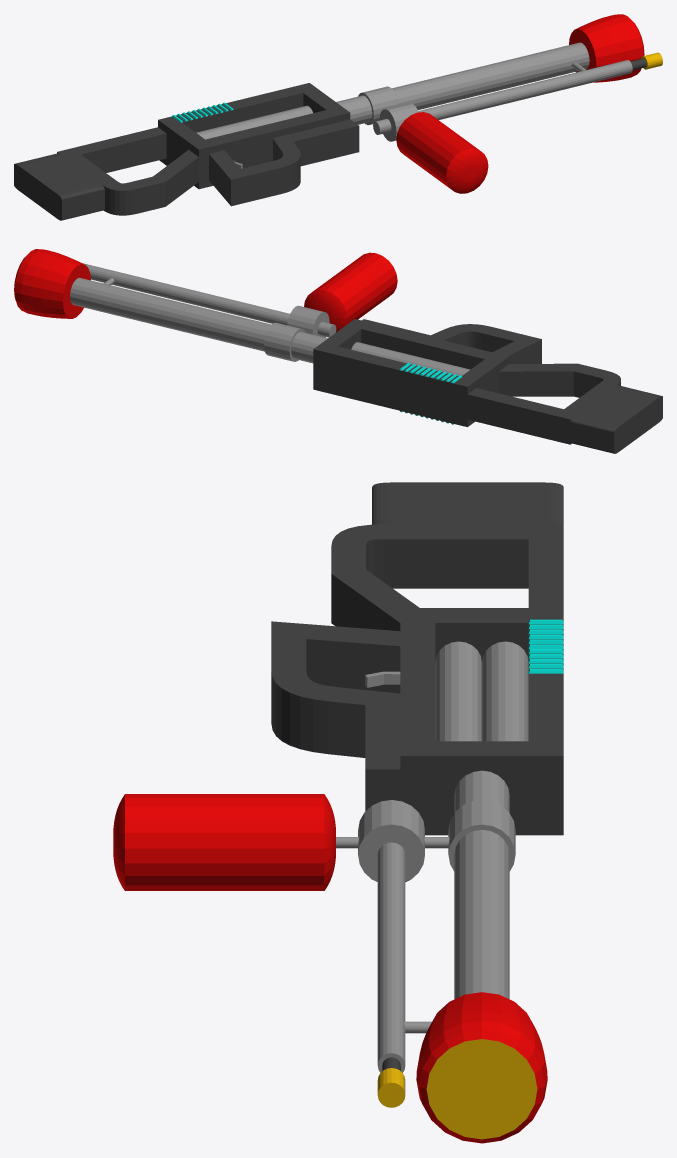
The model's file is flame.fbx.
The picture shows the model from 3 angles, top to bottom: view 1: azimuth 30°, elevation 25°; view 2: azimuth 150°, elevation 25°; view 3: azimuth 270°, elevation 25°; orthographic projection. The views are drawn at different scales.
Parts seen in each view (by area): view 1: imagetostl_mesh0; view 2: imagetostl_mesh0; view 3: imagetostl_mesh0.
Part boxes in pixels (<box>): imagetostl_mesh0: <box>14,14,662,220</box>; imagetostl_mesh0: <box>14,249,662,453</box>; imagetostl_mesh0: <box>113,482,563,1143</box>.
Size of the model in its own units: 119 by 11.25 by 38.6.
